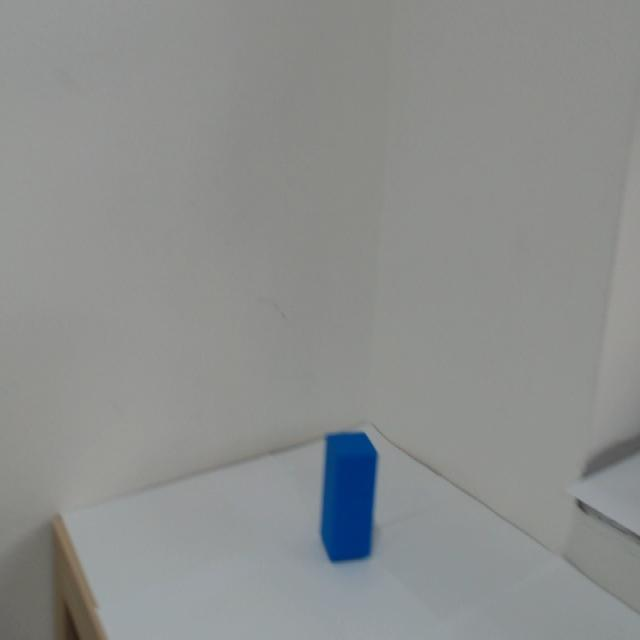cube: (294, 361, 406, 625)
